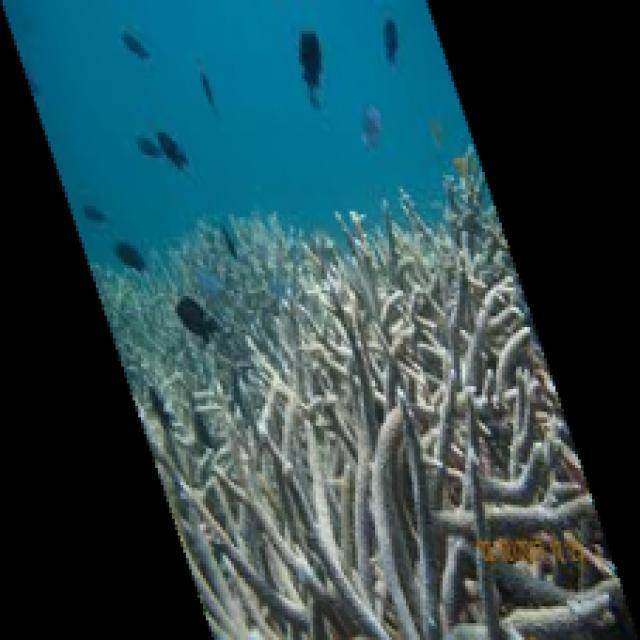Bleached: (142, 208, 640, 640), (91, 207, 337, 419), (432, 146, 519, 276)
